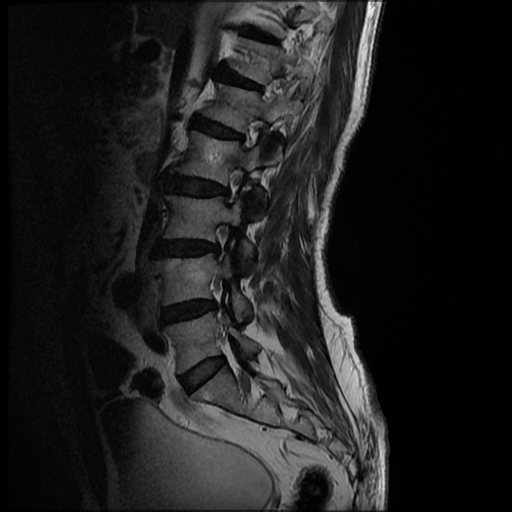RFS0: (204, 216, 237, 266), (217, 161, 249, 211), (234, 110, 268, 157)
